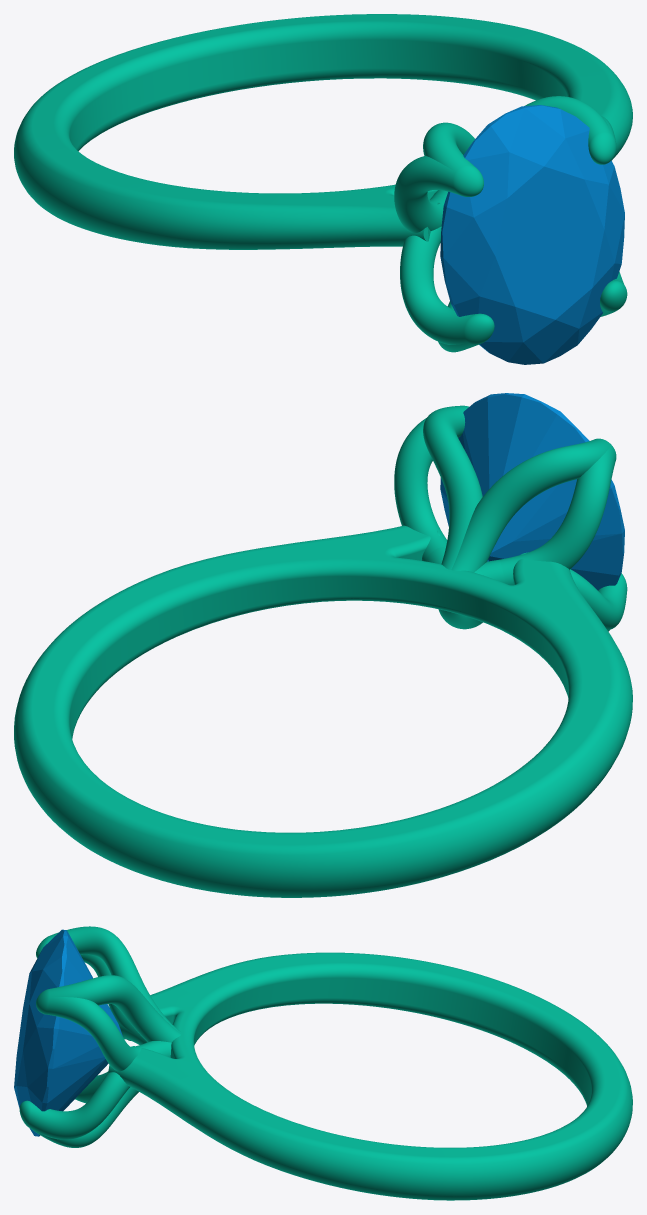
3 views of the same model, one above another, from view 1: azimuth 30°, elevation 25°; view 2: azimuth 150°, elevation 25°; view 3: azimuth 270°, elevation 25° (orthographic). The views are drawn at different scales.
Visible parts, largest first — view 1: RING.JTC.SRO17(base).3dm, Diamond_Oval; view 2: RING.JTC.SRO17(base).3dm, Diamond_Oval; view 3: RING.JTC.SRO17(base).3dm, Diamond_Oval.
Part boxes in pixels (x1=…): RING.JTC.SRO17(base).3dm: x1=14, y1=14, x2=632, y2=352; Diamond_Oval: x1=440, y1=105, x2=624, y2=364; RING.JTC.SRO17(base).3dm: x1=14, y1=405, x2=632, y2=897; Diamond_Oval: x1=440, y1=393, x2=624, y2=590; RING.JTC.SRO17(base).3dm: x1=19, y1=926, x2=632, y2=1200; Diamond_Oval: x1=14, y1=929, x2=123, y2=1136.
Size of the model in its own units: 2.42 by 1.04 by 3.01.
